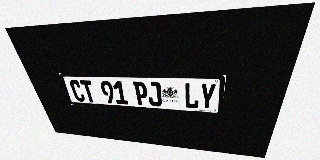1: (111, 81, 128, 104)
9: (99, 81, 116, 104)
C: (68, 80, 86, 102)
J: (146, 82, 162, 106)
L: (184, 83, 200, 109)
P: (133, 81, 149, 106)
T: (79, 80, 97, 102)
Y: (199, 83, 217, 110)
